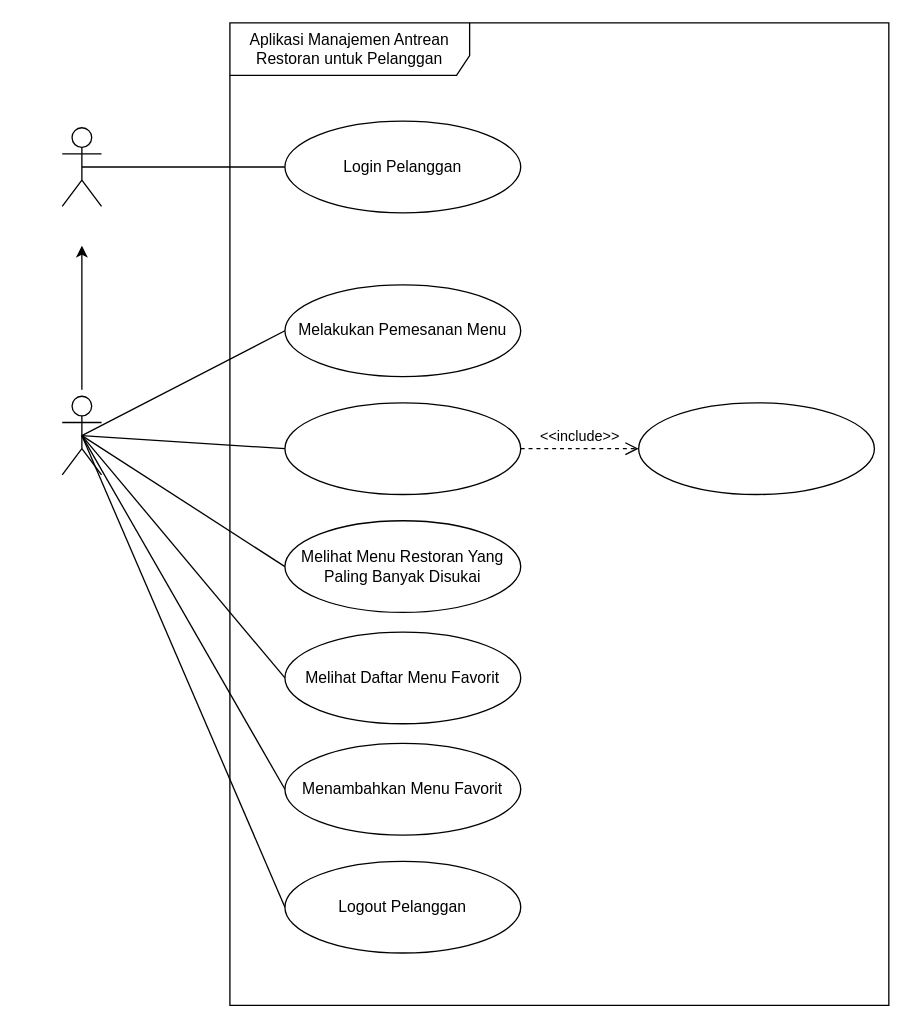
Image size: 912x1028. Some labels were removed from this diagram. Each missing label, with the centre of its shape:
Melihat Riwayat Pemesanan: [755,448]
Mengubah Pesanan: [402,448]
Pelanggan: [81,435]
Tamu Pelanggan: [81,166]
